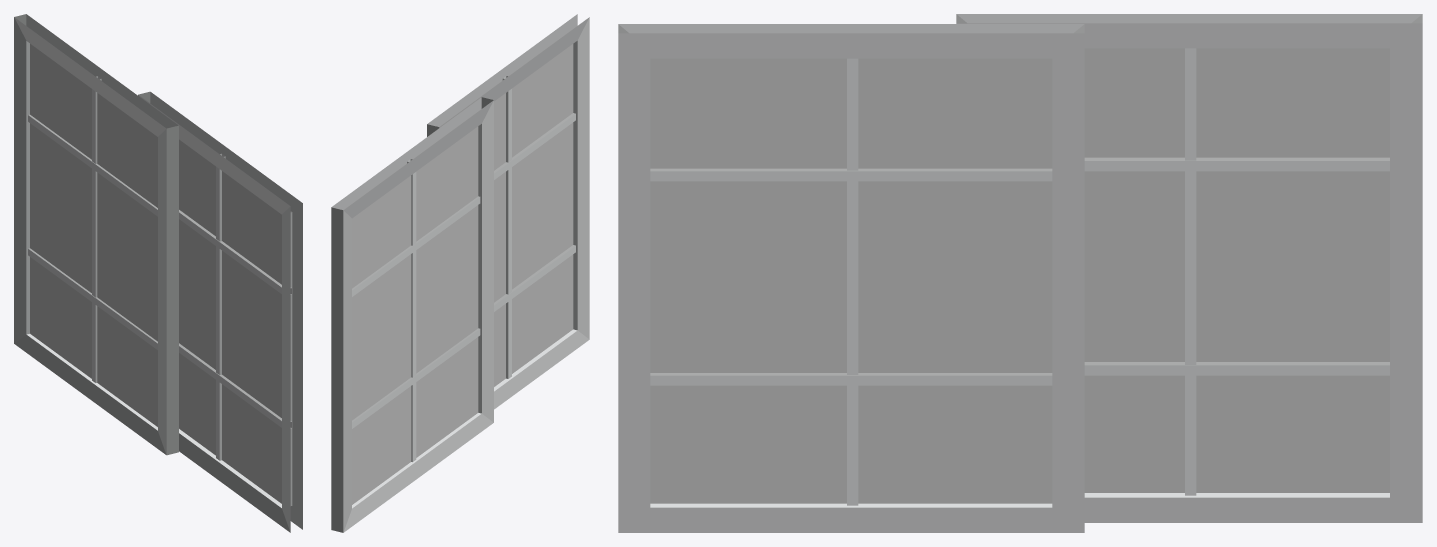
The model's file is M_cantingchuang02.FBX.
3 renders of one model, left to right at view 1: azimuth 30°, elevation 25°; view 2: azimuth 150°, elevation 25°; view 3: azimuth 270°, elevation 25°, orthographic. The views are drawn at different scales.
Visible parts, largest first — view 1: M_cantingchuang02_02, M_cantingchuang02_01; view 2: M_cantingchuang02_02, M_cantingchuang02_01; view 3: M_cantingchuang02_02, M_cantingchuang02_01.
Part boxes in pixels (box(x1,y1,x2,y2)): M_cantingchuang02_02: box(30, 43, 281, 503); M_cantingchuang02_01: box(14, 14, 302, 532); M_cantingchuang02_02: box(352, 44, 573, 504); M_cantingchuang02_01: box(331, 14, 589, 532); M_cantingchuang02_02: box(650, 48, 1389, 503); M_cantingchuang02_01: box(618, 14, 1422, 532).
Bounding box in the file's own units: 0.2161 × 2.61 × 3.81.
